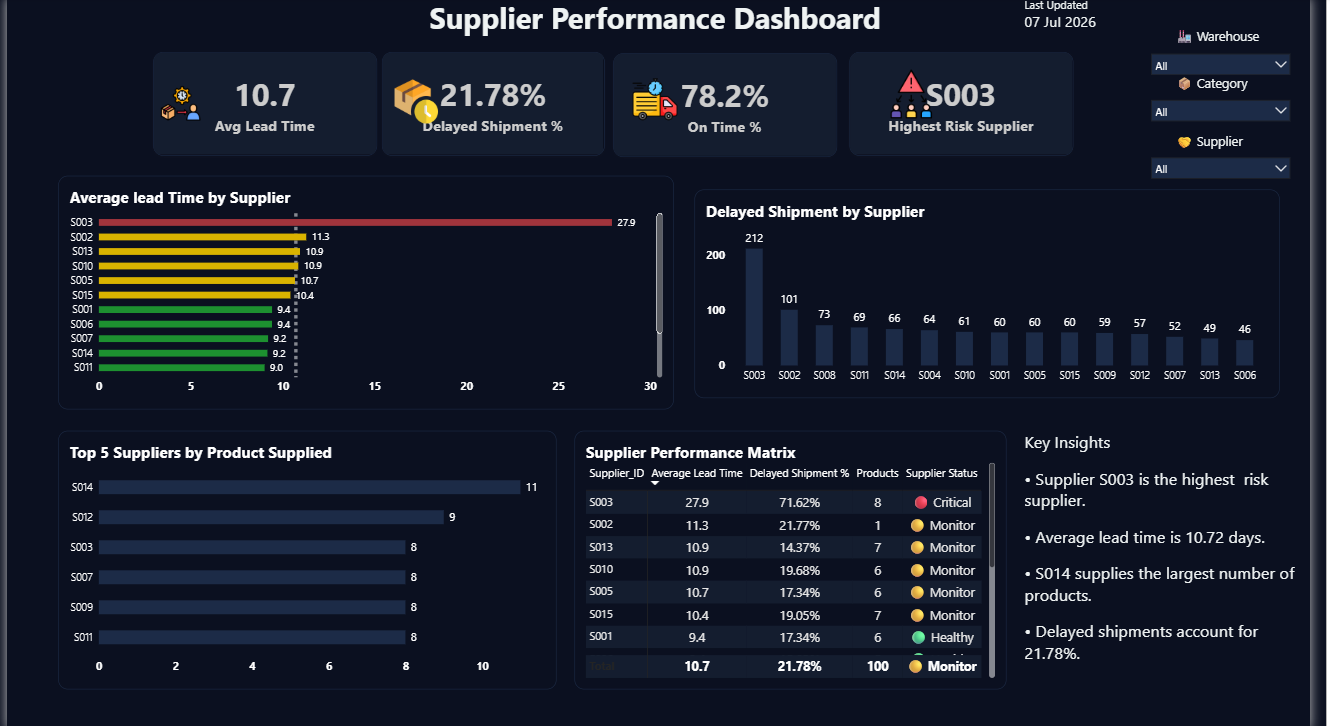

The page's visual inventory and layout, read from the dashboard file:
{"tool":"powerbi","page":{"name":"Supplier Performance","canvas":[1920,1080],"ordinal":1},"visuals":[{"type":"textbox","box":[622.1,0,677.3,64.4],"z":0},{"type":"barChart","title":"Average lead Time by Supplier","fields":{"Category":["Suppliers.Supplier_ID"],"Y":["Dax measure.Avg Lead Time"]},"box":[75.7,264,906.8,344.1],"z":1000},{"type":"clusteredColumnChart","title":"Delayed Shipment by Supplier","fields":{"Category":["Suppliers.Supplier_ID"],"Y":["Dax measure.Delayed Shipment"]},"box":[1012.8,283.5,861.3,307.3],"z":2000},{"type":"barChart","title":" Top 5 Suppliers by Product Supplied ","fields":{"Category":["Suppliers.Supplier_ID"],"Y":["Count(Products.Product_ID)"]},"box":[75.7,638.4,733.6,380.9],"z":3000},{"type":"cardVisual","fields":{"Data":["Dax measure.Avg Lead Time"]},"box":[215.3,81,329.4,152.8],"z":4000},{"type":"slicer","fields":{"Values":["Warehouses.Warehouse_Name"]},"box":[1664.2,64.9,246.7,84.4],"z":5000},{"type":"slicer","fields":{"Values":["Products.Category"]},"box":[1664.2,131.6,246.7,101.7],"z":6000},{"type":"slicer","fields":{"Values":["Shipments.Supplier_ID"]},"box":[1664.2,216.4,246.7,101.7],"z":7000},{"type":"textbox","box":[1720.5,43.3,134.2,43.3],"z":8000},{"type":"textbox","box":[1720.5,114.3,134.2,34.6],"z":9000},{"type":"textbox","box":[1720.5,199.1,134.2,34.6],"z":10000},{"type":"cardVisual","fields":{"Data":["Dax measure.Delayed Shipment %"]},"box":[552.2,81,327.6,152.8],"z":11000},{"type":"cardVisual","fields":{"Data":["Dax measure.On Time %"]},"box":[892.6,82.8,329.4,152.8],"z":12000},{"type":"cardVisual","fields":{"Data":["Dax measure.Highest Risk Supplier"]},"box":[1240.5,81,329.4,152.8],"z":13000},{"type":"pivotTable","title":"Supplier Performance Matrix","fields":{"Values":["Avg(Shipments.Lead_Time_Days)","Dax measure.Delayed Shipment %","CountNonNull(Products.Product_Name)","Dax measure.Supplier Status"],"Rows":["Suppliers.Supplier_ID"]},"box":[835.4,638.4,636.3,380.9],"z":14000},{"type":"textbox","box":[1497.6,638.4,413.4,380.9],"z":15000},{"type":"image","box":[215.3,127,81,58.9],"z":15001},{"type":"image","box":[528.2,121.5,149.1,64.4],"z":15002},{"type":"image","box":[879.8,116,149.1,69.9],"z":15003},{"type":"image","box":[1257.1,106.7,149.1,71.8],"z":15004},{"type":"textbox","box":[1498.2,0,123.3,71.8],"z":15005}]}

Visuals, with their boxes on the page's 1920x1080 design canvas (x1, y1, x2, y2). These are canvas units, not pixel positions in the 1330x726 screenshot, which may show the page scaled, cropped or inside an application window:
textbox: 622/0/1299/64
"Average lead Time by Supplier" barChart: 76/264/982/608
"Delayed Shipment by Supplier" clusteredColumnChart: 1013/284/1874/591
" Top 5 Suppliers by Product Supplied " barChart: 76/638/809/1019
cardVisual - Dax measure.Avg Lead Time: 215/81/545/234
slicer - Warehouses.Warehouse_Name: 1664/65/1911/149
slicer - Products.Category: 1664/132/1911/233
slicer - Shipments.Supplier_ID: 1664/216/1911/318
textbox: 1720/43/1855/87
textbox: 1720/114/1855/149
textbox: 1720/199/1855/234
cardVisual - Dax measure.Delayed Shipment %: 552/81/880/234
cardVisual - Dax measure.On Time %: 893/83/1222/236
cardVisual - Dax measure.Highest Risk Supplier: 1240/81/1570/234
"Supplier Performance Matrix" pivotTable: 835/638/1472/1019
textbox: 1498/638/1911/1019
image: 215/127/296/186
image: 528/122/677/186
image: 880/116/1029/186
image: 1257/107/1406/178
textbox: 1498/0/1622/72
